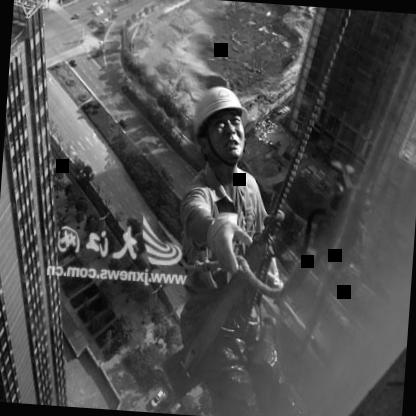helmet: (184, 75, 266, 178)
